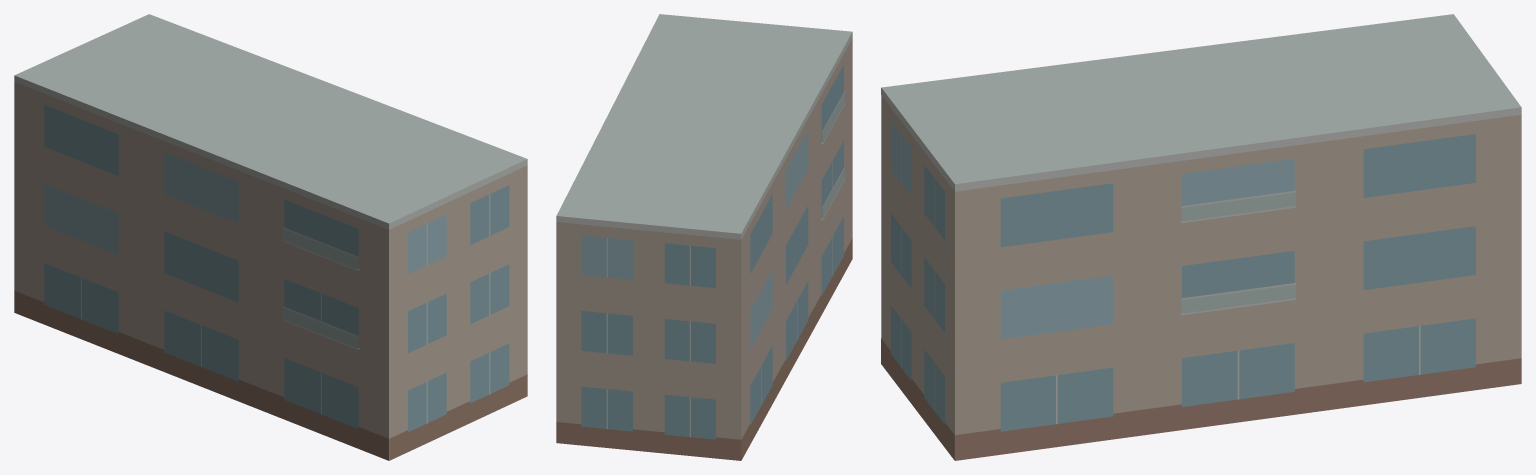
File: survey-upis-32702834.glb
The picture shows the model from 3 angles, left to right: view 1: azimuth 30°, elevation 25°; view 2: azimuth 150°, elevation 25°; view 3: azimuth 270°, elevation 25°; orthographic projection. The views are drawn at different scales.
Parts seen in each view (by area): view 1: survey-upis-32702834.tmp; view 2: survey-upis-32702834.tmp; view 3: survey-upis-32702834.tmp.
Boxes of the visible parts, x1=… form: survey-upis-32702834.tmp: x1=14, y1=14, x2=527, y2=460; survey-upis-32702834.tmp: x1=556, y1=14, x2=852, y2=460; survey-upis-32702834.tmp: x1=881, y1=14, x2=1521, y2=460.
Bounding box in the file's own units: 12.09 × 9.15 × 19.21.
